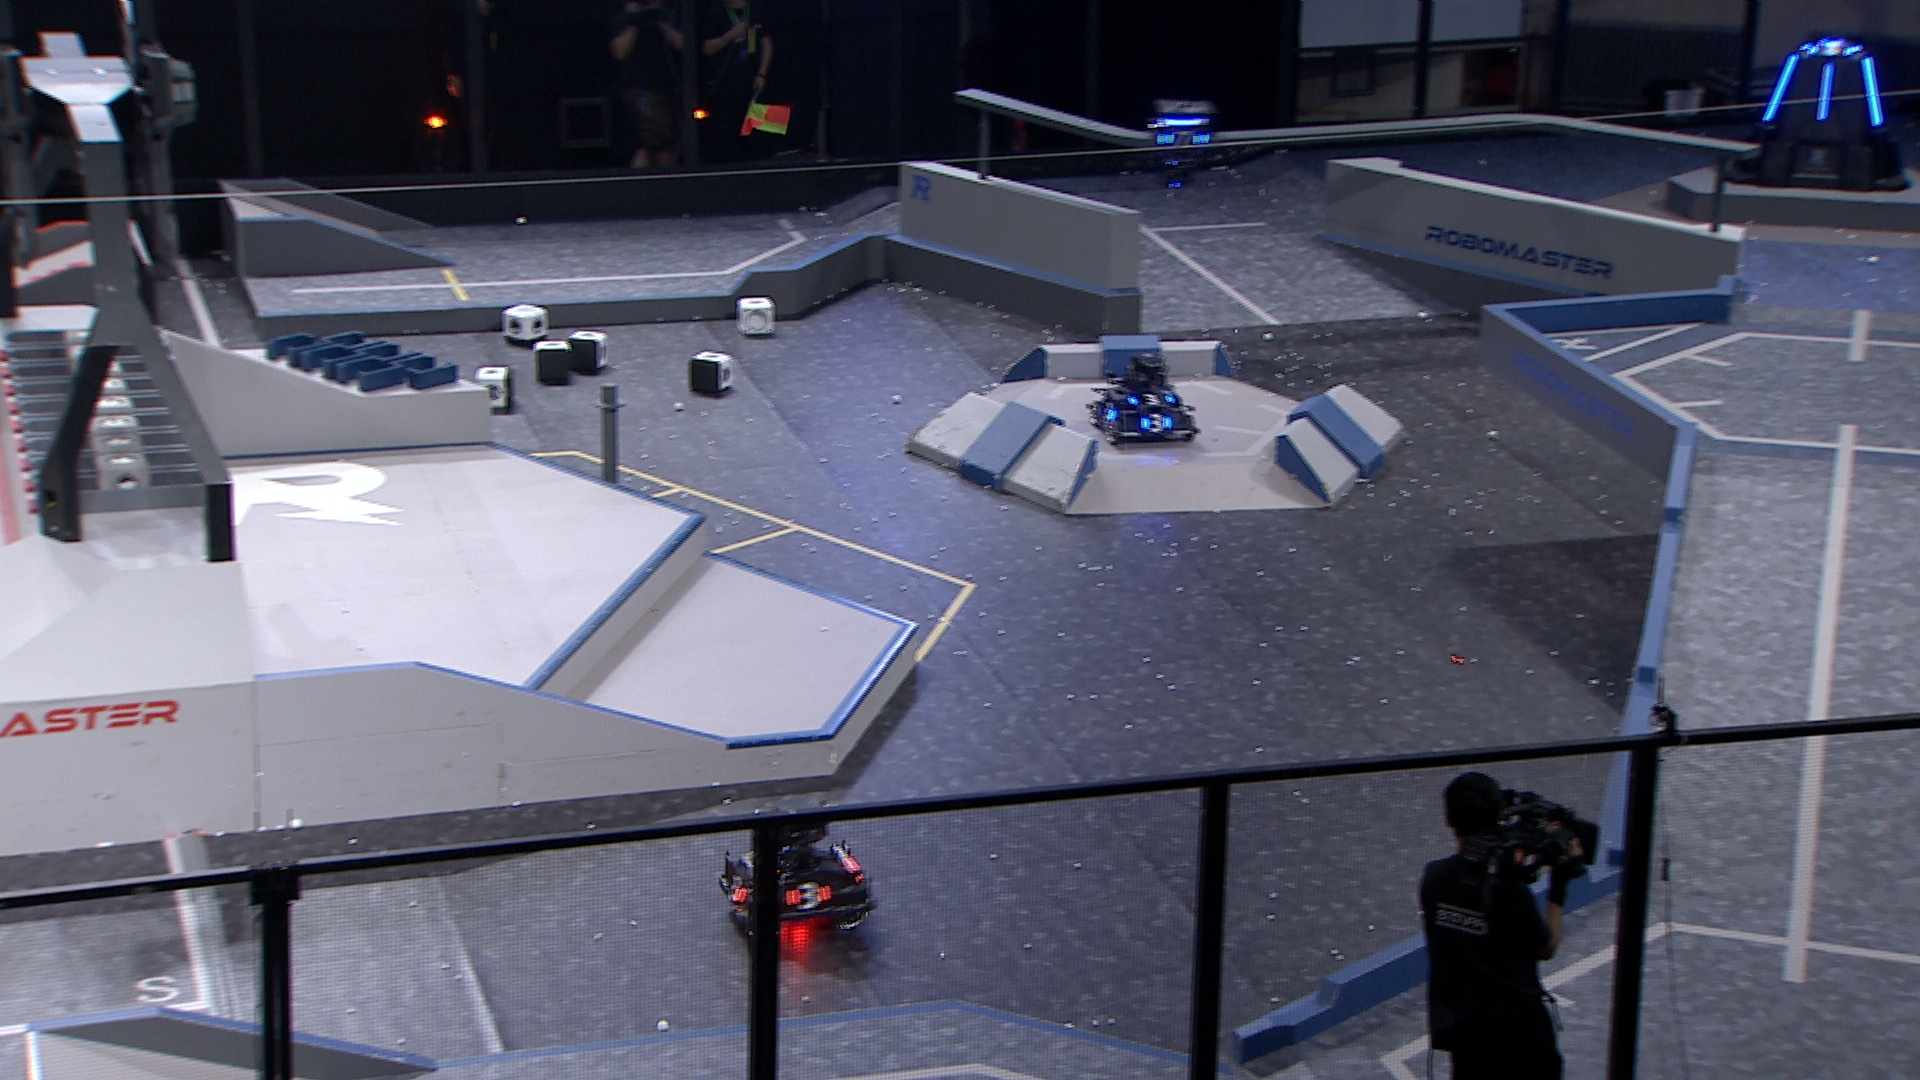armor: (1760, 54, 1801, 124), (1861, 55, 1883, 125), (785, 882, 833, 913), (1815, 61, 1836, 123), (1154, 128, 1215, 149), (1803, 40, 1855, 58), (1127, 392, 1176, 409), (1138, 411, 1174, 434), (723, 870, 746, 903), (1096, 396, 1120, 422)
base: (1717, 34, 1913, 196)
car: (713, 812, 884, 938), (1087, 347, 1201, 444)
watcher: (1149, 96, 1221, 186)
